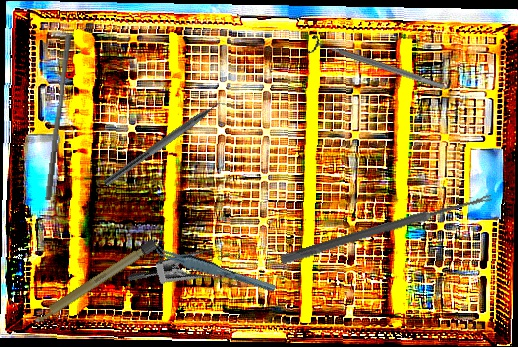Chopper: (102, 92, 235, 196)
Fixation Ring: (307, 32, 447, 98)
Pusher: (45, 34, 73, 201)
Scalpel Handle: (30, 238, 158, 327)
Speculum: (125, 228, 254, 326)
Surgical Spoon: (280, 191, 493, 266)
Tissue Forceps: (151, 231, 277, 306)
